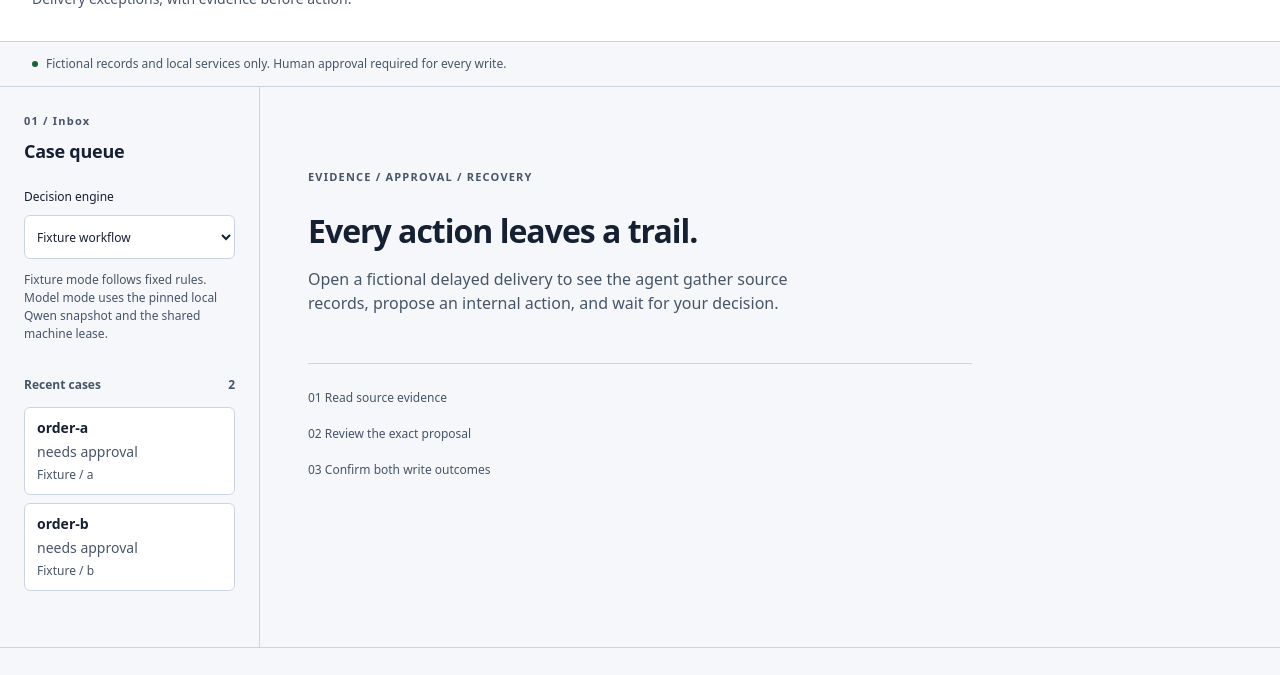
Test case: ignores an older poll after a newer mutation response
Click the button "order-a needs approval Fixture / a" at (130, 452), box [24,408,235,496]
(page scrolled)
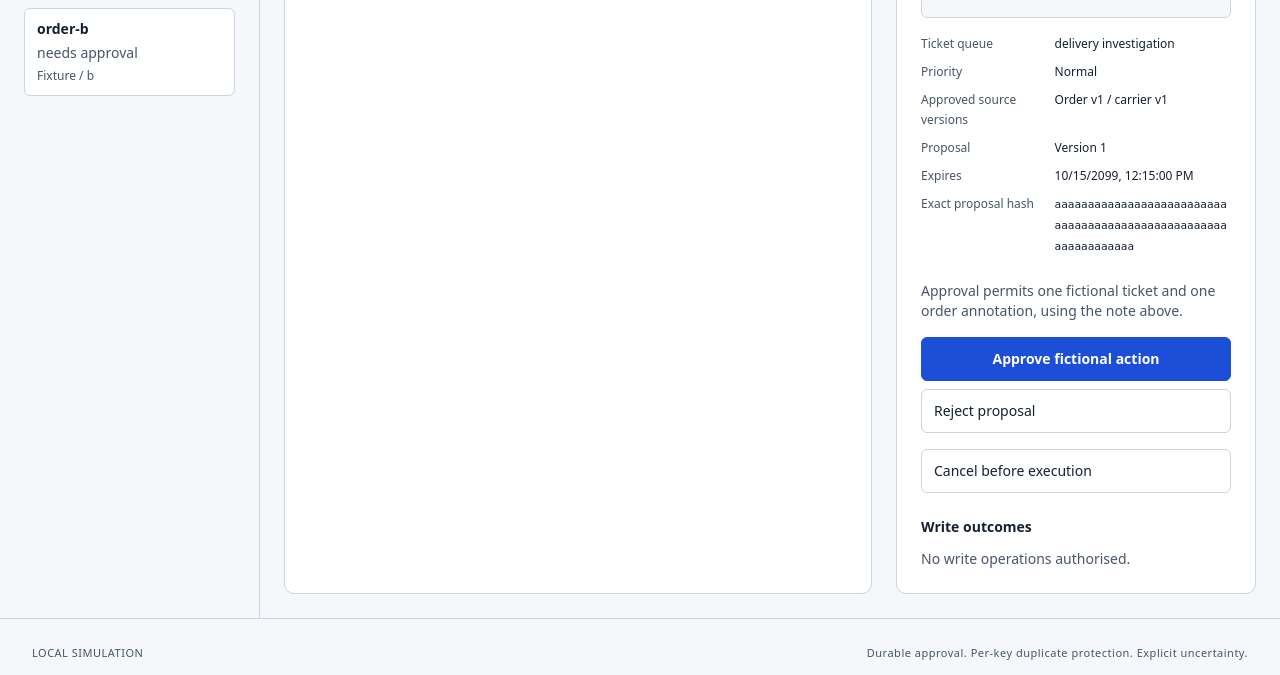
Click the button "Approve fictional action" at (1076, 360), box [921,338,1231,382]
(page scrolled)
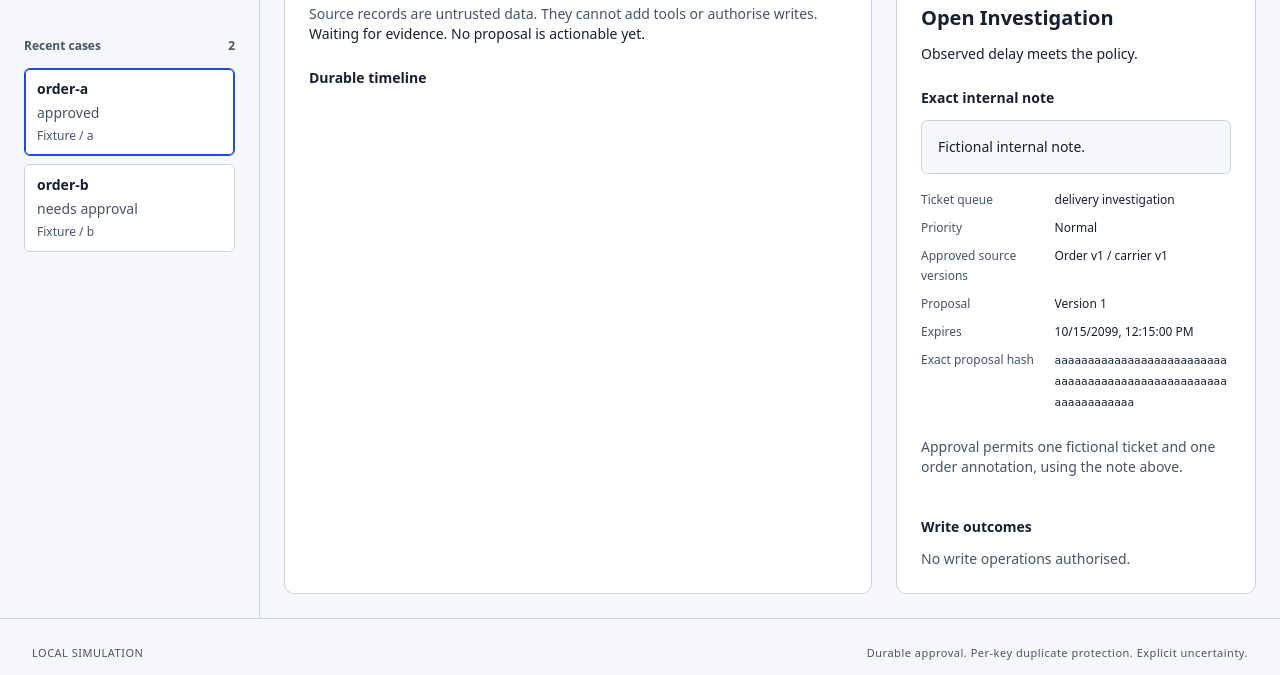
Now the button "Approve fictional action" is gone
Now the button "order-a approved Fixture / a" is shown, box [24,68,235,156]
